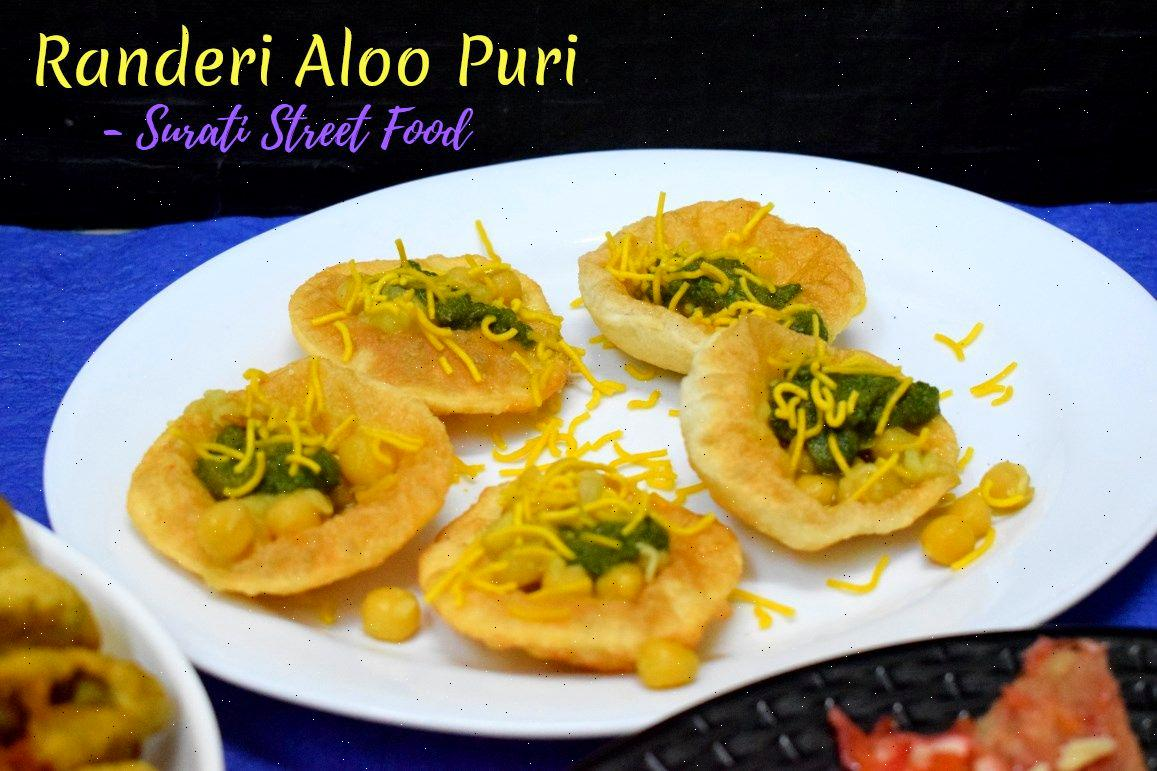puri: (200, 218, 1157, 674)
